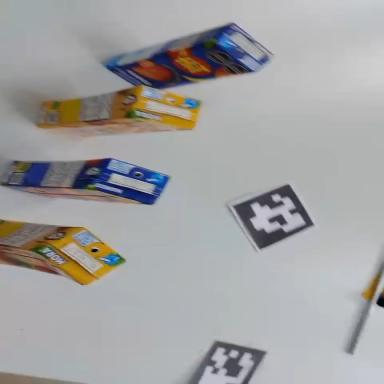HIT-MANGO: (102, 16, 274, 99), (1, 149, 170, 206)
HIT-MORA: (34, 82, 202, 138), (0, 220, 128, 288)
cara_F: (105, 36, 255, 98), (39, 113, 190, 140), (0, 246, 84, 285), (3, 185, 150, 204)
